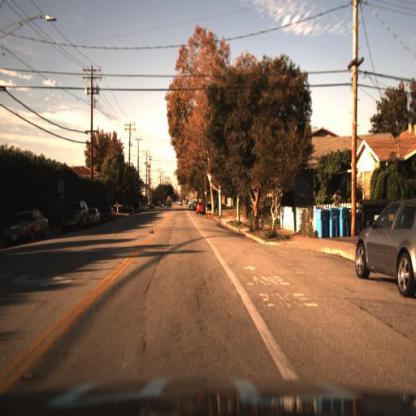car: (356, 198, 416, 300), (5, 210, 51, 247), (59, 203, 92, 236), (61, 201, 90, 233), (100, 204, 117, 227), (87, 205, 100, 231), (132, 201, 144, 215), (197, 202, 209, 216), (165, 197, 175, 213), (147, 201, 159, 213), (177, 200, 187, 213), (191, 203, 199, 215)
